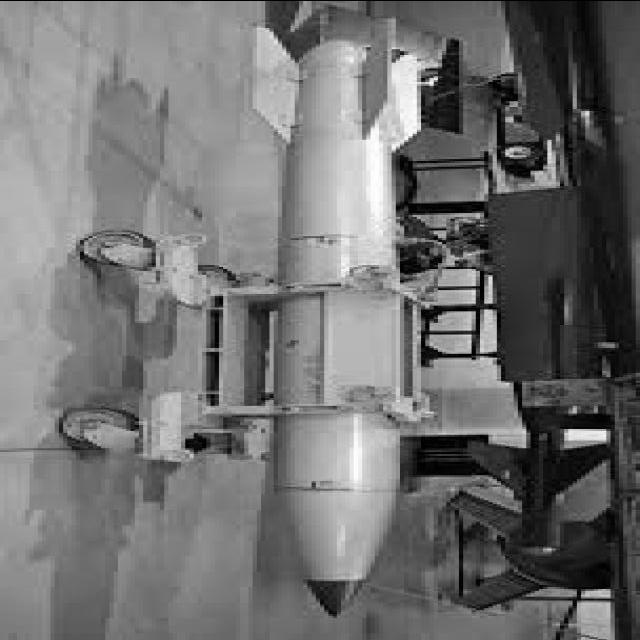missile: (237, 20, 450, 624)
